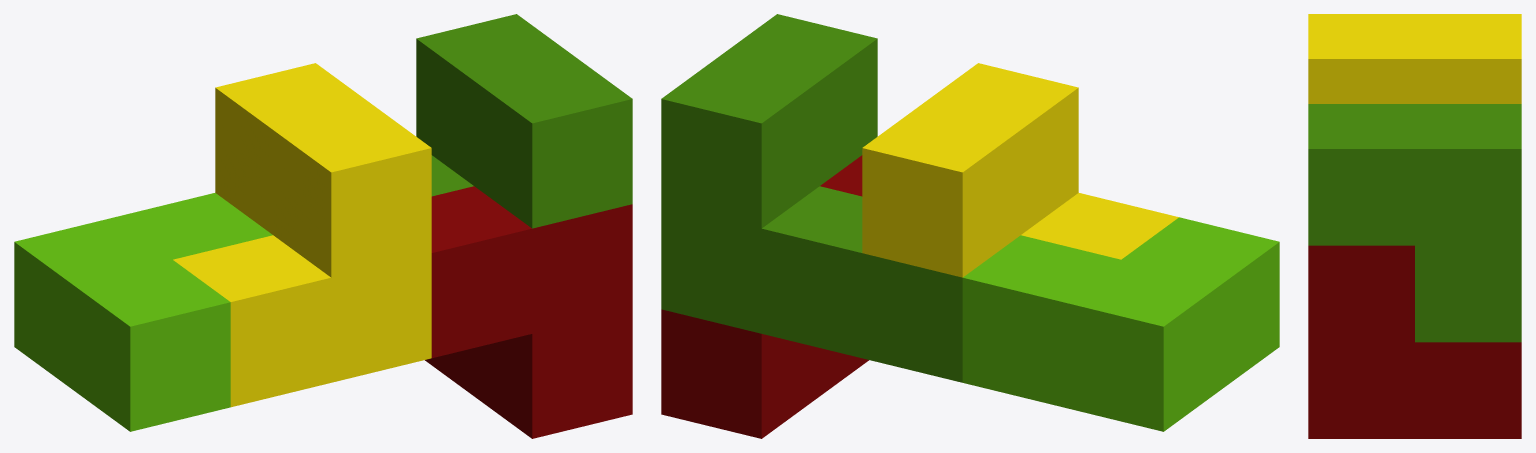
The picture shows the model from 3 angles, left to right: view 1: azimuth 30°, elevation 25°; view 2: azimuth 150°, elevation 25°; view 3: azimuth 270°, elevation 25°; orthographic projection. The views are drawn at different scales.
Parts seen in each view (by area): view 1: mergedBlocks(Clone); view 2: mergedBlocks(Clone); view 3: mergedBlocks(Clone).
Boxes of the visible parts, x1,y1,x2,y2 form: mergedBlocks(Clone): [14, 14, 632, 438]; mergedBlocks(Clone): [661, 14, 1279, 438]; mergedBlocks(Clone): [1308, 14, 1521, 438].
Bounding box in the file's own units: 5 × 3 × 2.
4 materials, 4 textured.
